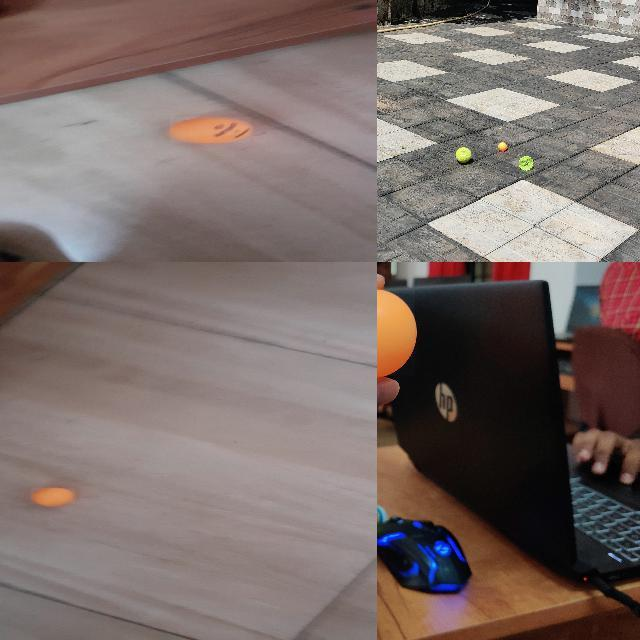ping-pong-ball: (377, 288, 417, 378), (170, 117, 252, 143), (30, 488, 77, 505), (498, 142, 506, 150)
